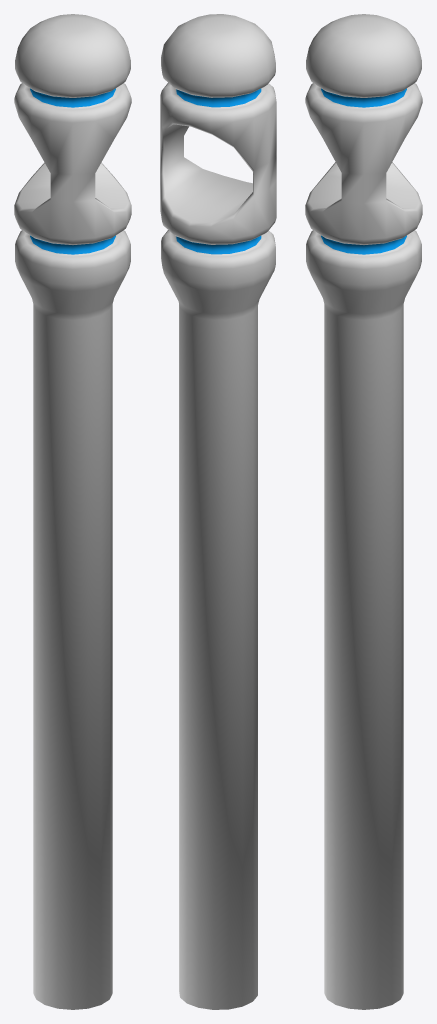
File: PillarMillHole.fbx
3 renders of one model, left to right at view 1: azimuth 90°, elevation 25°; view 2: azimuth 150°, elevation 25°; view 3: azimuth 270°, elevation 25°, orthographic.
Parts seen in each view (by area): view 1: Hole; view 2: Hole; view 3: Hole.
Boxes of the visible parts, x1,y1,x2,y2 form: Hole: (14,14,131,1009); Hole: (160,14,276,1009); Hole: (305,14,422,1009).
Size of the model in its own units: 786 by 7172 by 786.
